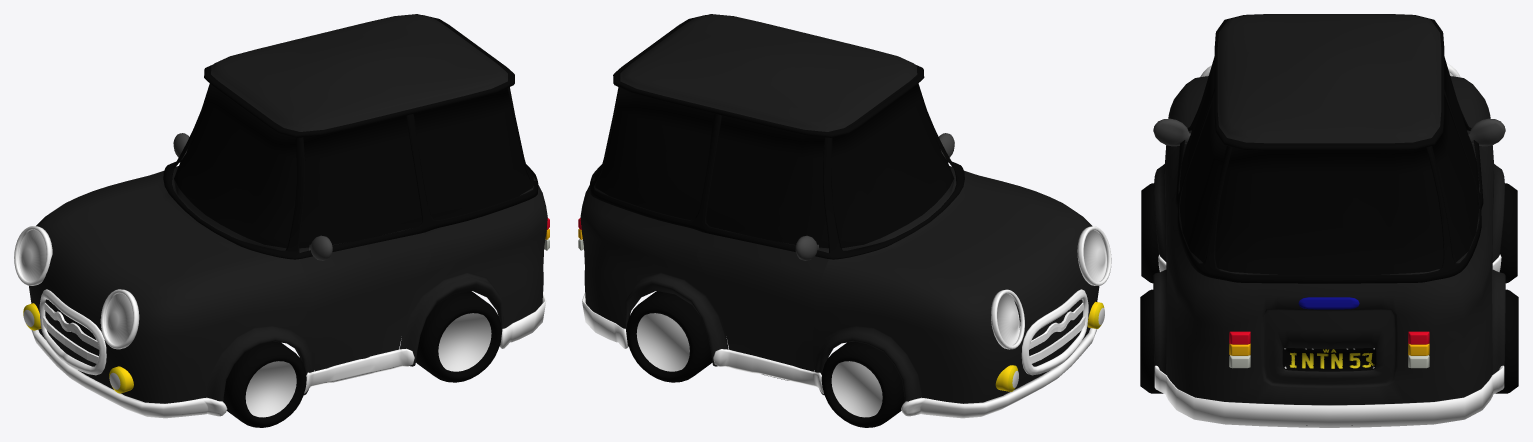
The model's file is car3.fbx.
The picture shows the model from 3 angles, left to right: view 1: azimuth 30°, elevation 25°; view 2: azimuth 150°, elevation 25°; view 3: azimuth 270°, elevation 25°; orthographic projection. The views are drawn at different scales.
Visible parts, largest first — view 1: Plane; view 2: Plane; view 3: Plane.
Boxes of the visible parts, <box> form: Plane: <box>14,14,549,427</box>; Plane: <box>578,14,1111,427</box>; Plane: <box>1140,14,1518,427</box>.
Size of the model in its own units: 645 by 382 by 413.
Materials: 17 (1 with a texture image).
